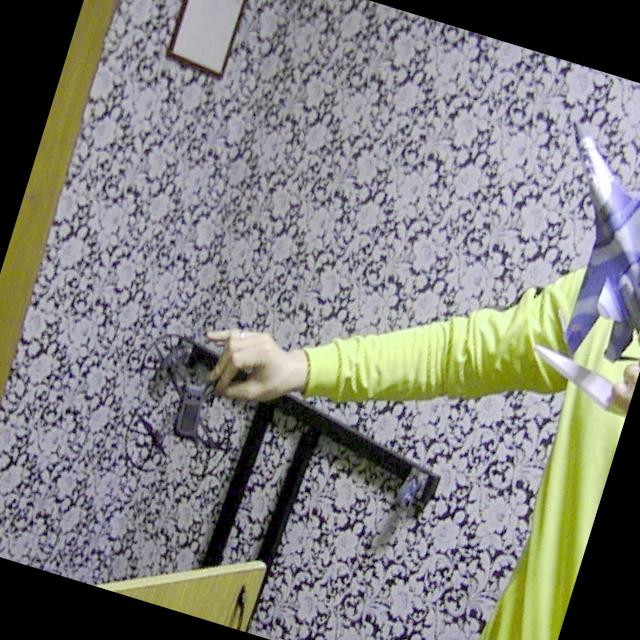drone: (104, 310, 270, 498)
